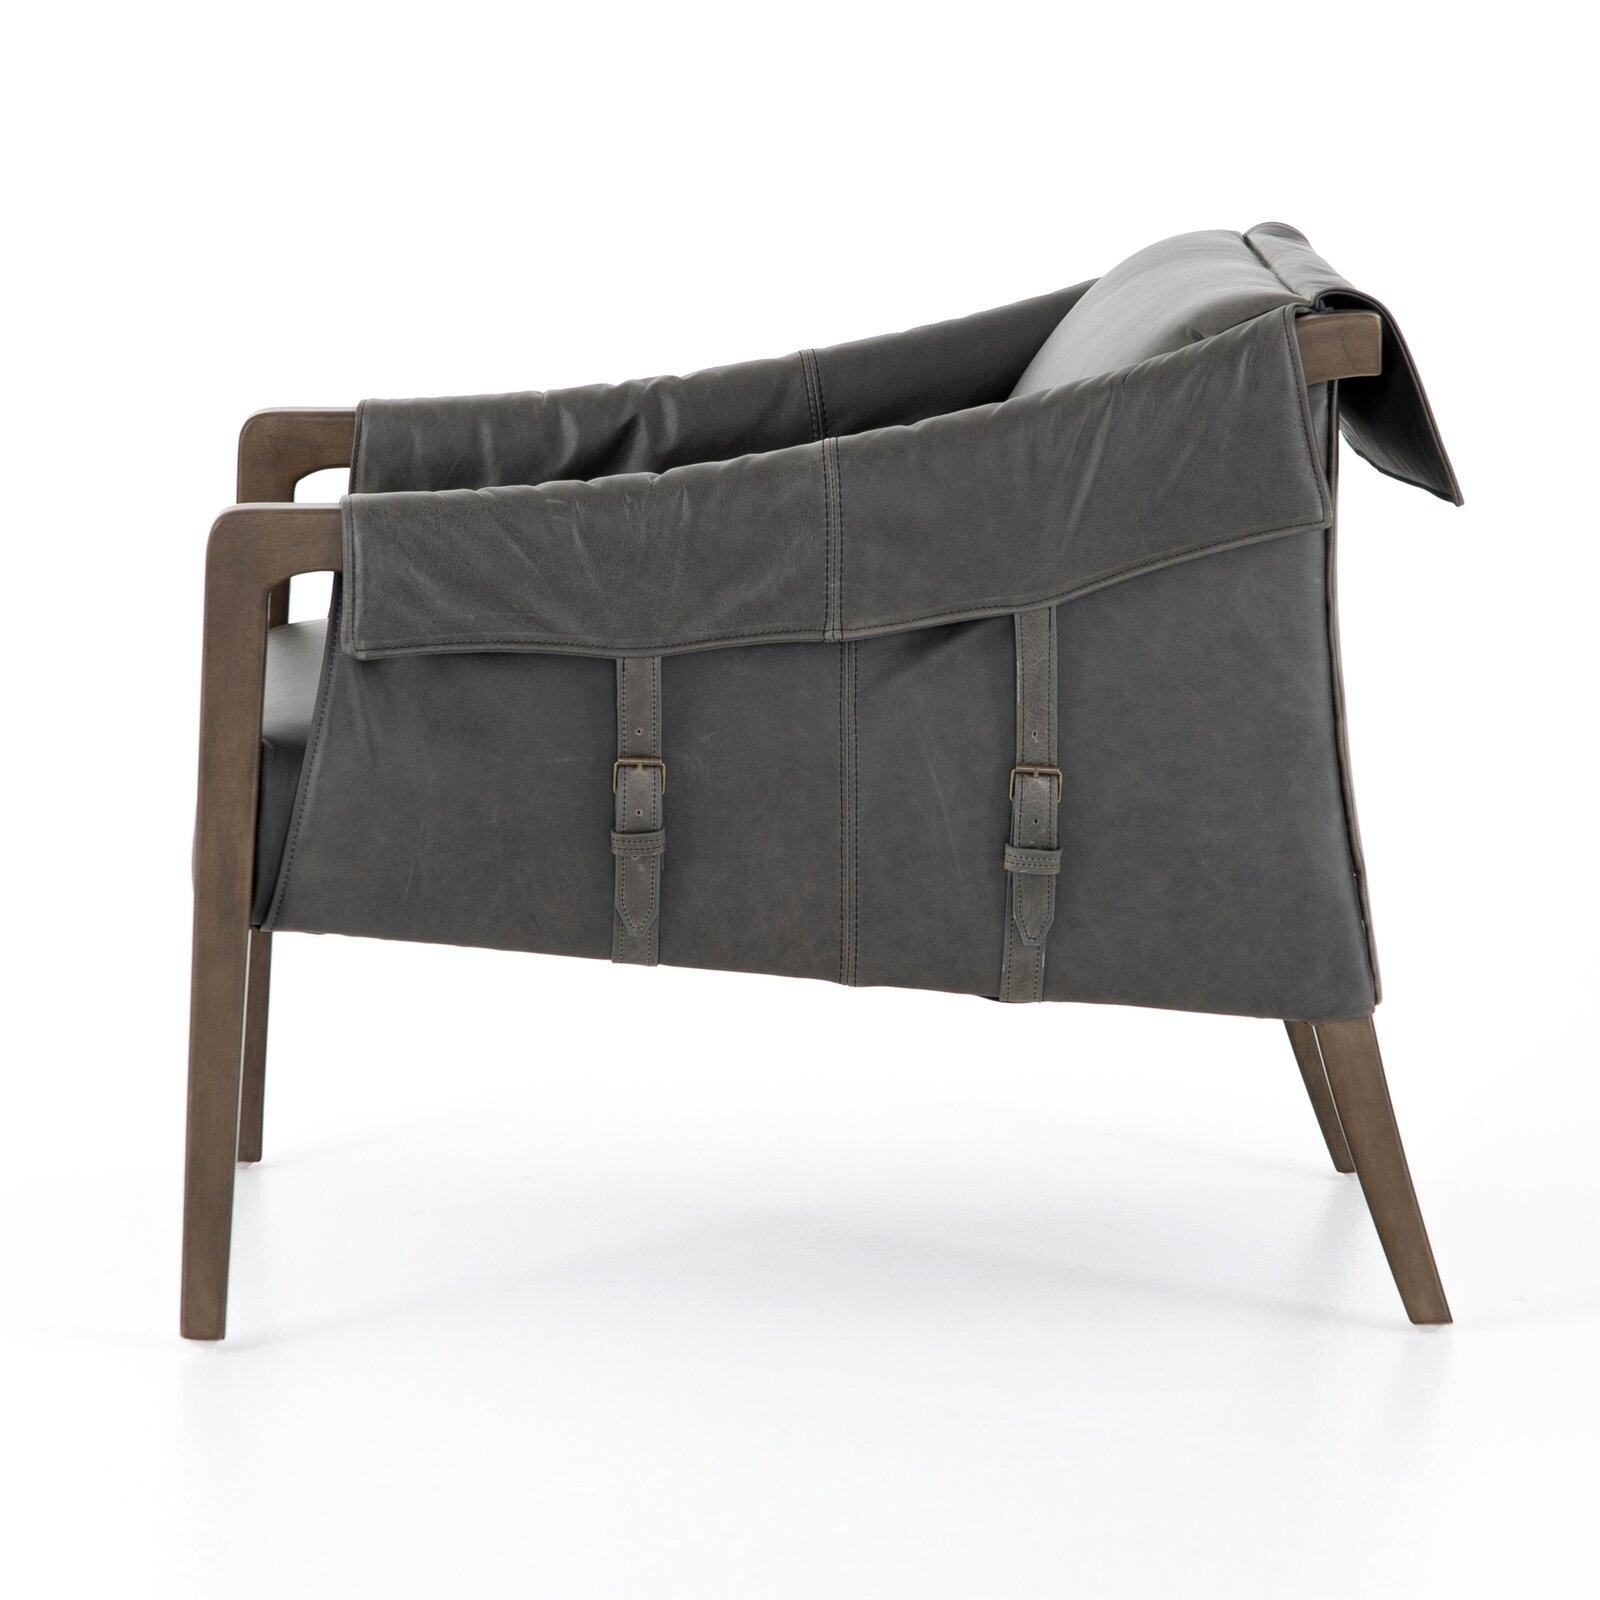obstacle: (182, 226, 1458, 1338)
